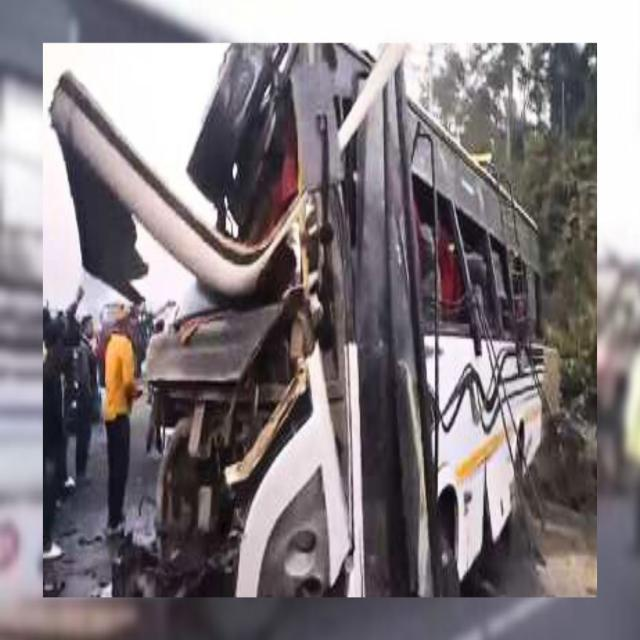accident: (50, 44, 541, 596)
